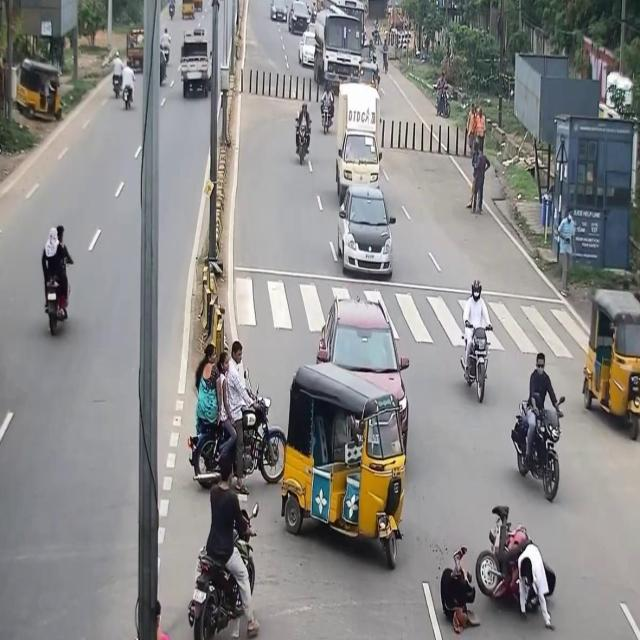accident: (437, 492, 559, 640)
non_accident: (289, 7, 394, 287), (266, 0, 313, 44), (179, 0, 209, 32)
